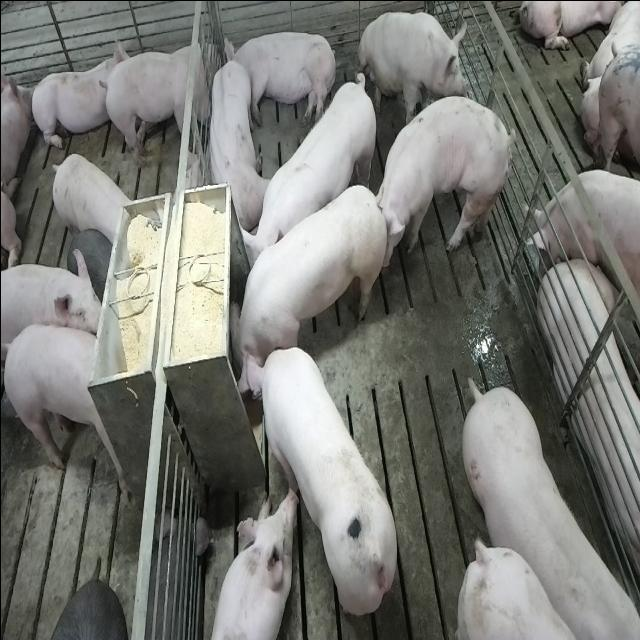Feeding: (240, 341, 398, 618), (220, 175, 382, 381)
Lateral_lying: (539, 254, 640, 616), (222, 28, 338, 128)
Sitting: (355, 8, 467, 130)
Standing: (459, 378, 640, 640), (242, 69, 380, 285), (377, 92, 520, 268), (2, 324, 128, 500), (100, 34, 220, 174), (524, 166, 640, 301), (3, 246, 108, 367), (49, 152, 135, 248)
Sternal_lying: (207, 488, 295, 640), (203, 52, 265, 230), (29, 31, 120, 152)
